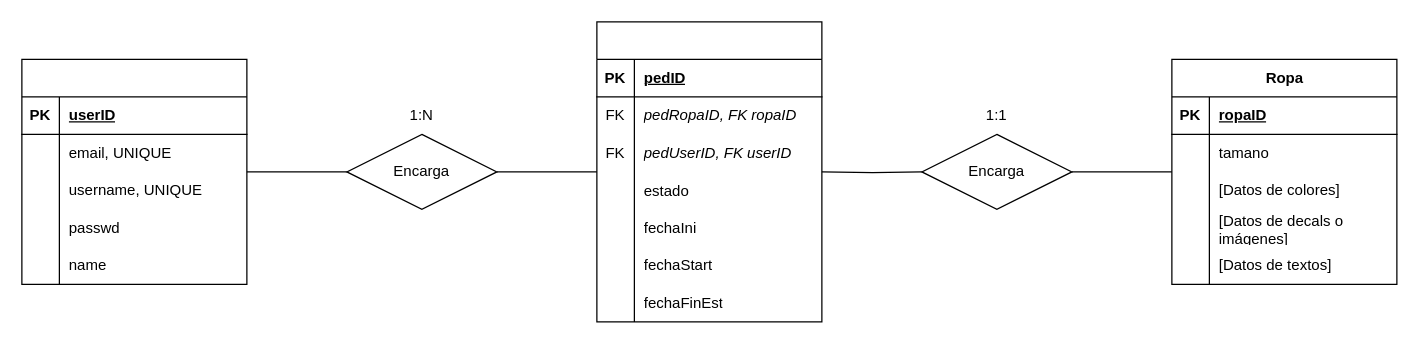
Some shapes in this 1419 by 344 pixel diagram are drawn without their labels. The box of each missing label's shape, as (x1, y1, x2, y2) in pixels:
Pedido: (596, 21, 822, 322)
Usuario: (21, 58, 247, 284)
